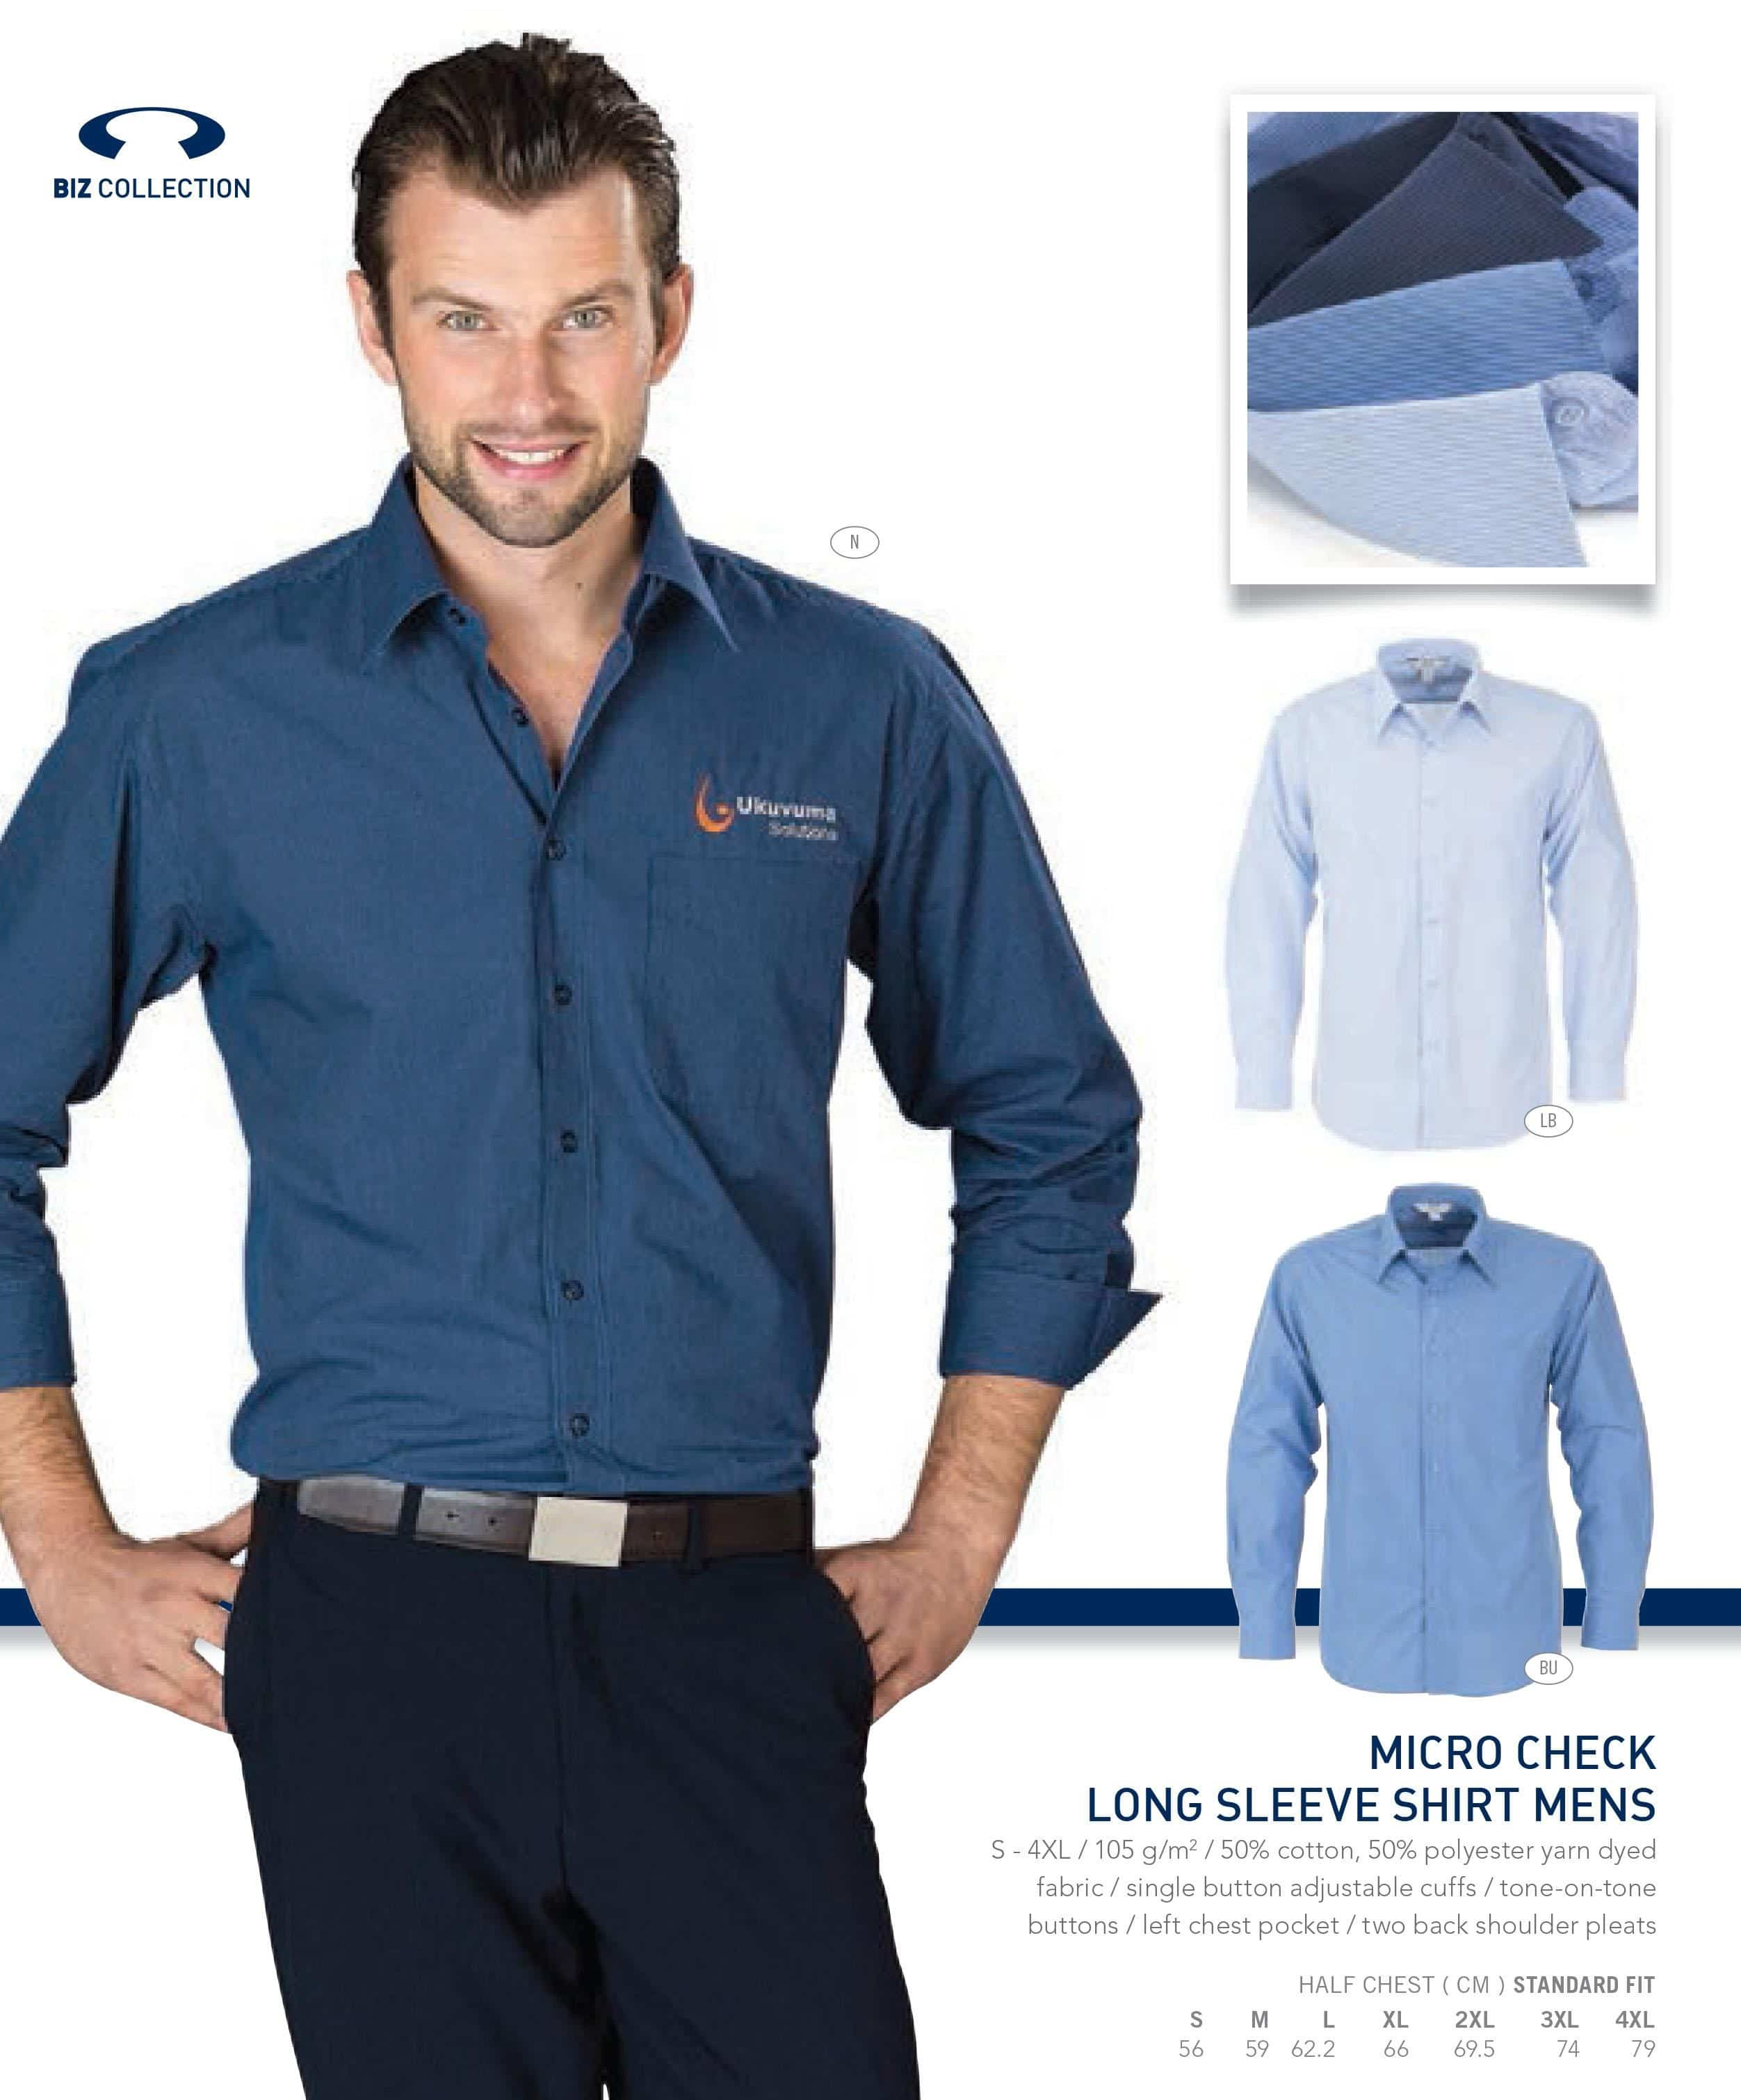Shirt: (3, 522, 1205, 1568), (1216, 1181, 1690, 1704), (1214, 633, 1657, 1160)
